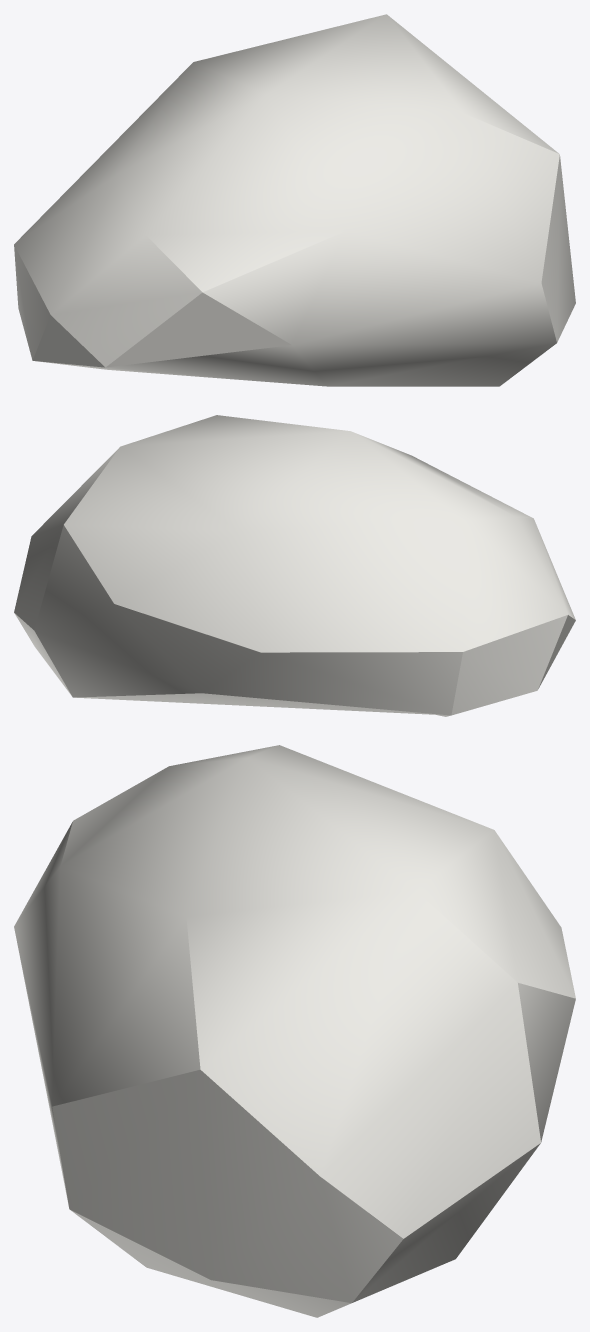
Rendered from rock_4.fbx.
3 views of the same model, one above another, from view 1: azimuth 30°, elevation 25°; view 2: azimuth 150°, elevation 25°; view 3: azimuth 270°, elevation 25° (orthographic). The views are drawn at different scales.
Visible parts, largest first — view 1: rock.068; view 2: rock.068; view 3: rock.068.
Part boxes in pixels (x1,y1,x2,y2): rock.068: (14, 14, 575, 386); rock.068: (14, 415, 575, 716); rock.068: (14, 745, 575, 1317).
Size of the model in its own units: 387 by 215 by 271.
